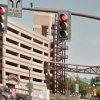Traffic light: (47, 5, 80, 48)
